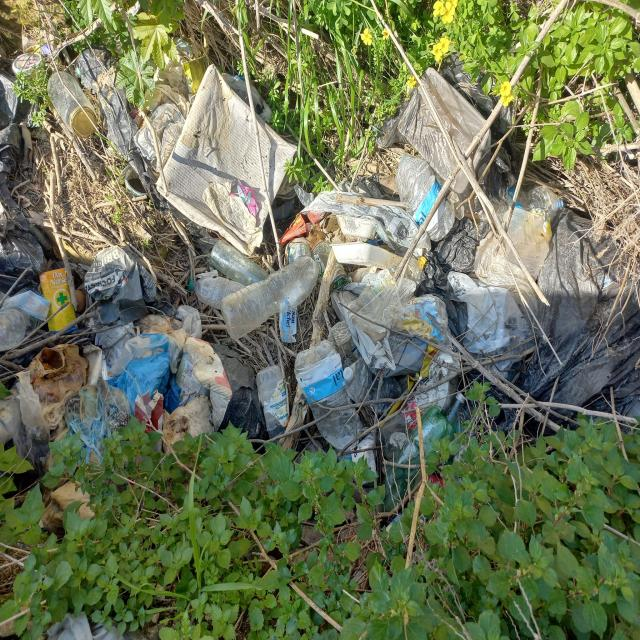Bottle: (220, 257, 325, 339), (382, 406, 454, 523), (294, 337, 361, 459), (394, 155, 456, 244), (344, 359, 407, 415), (46, 71, 98, 137), (358, 256, 427, 305), (0, 288, 51, 352), (478, 186, 564, 222), (210, 238, 270, 285), (256, 366, 290, 443), (312, 239, 348, 293), (189, 277, 246, 310), (443, 390, 466, 428)
Carton: (156, 62, 300, 260), (83, 244, 179, 325), (40, 266, 80, 334), (352, 433, 378, 487), (182, 55, 209, 93)
Other litter: (0, 306, 233, 479), (332, 276, 461, 462), (414, 218, 491, 346), (133, 34, 195, 175), (286, 211, 395, 263), (41, 477, 95, 534), (46, 612, 149, 640), (408, 474, 446, 547), (449, 404, 476, 486), (329, 320, 362, 369), (338, 174, 391, 199), (268, 181, 295, 221), (231, 180, 260, 216), (340, 268, 381, 293), (386, 513, 403, 539), (25, 43, 58, 54)
Other plastic: (447, 207, 553, 377), (221, 71, 274, 122), (279, 306, 297, 343)
Plastic bag - wrapper: (462, 207, 640, 450), (75, 49, 218, 258), (374, 67, 517, 215), (0, 70, 64, 296), (293, 183, 419, 256), (439, 54, 516, 140), (210, 342, 264, 451), (279, 212, 307, 245)
Plastic container: (11, 52, 46, 82)
Styrofoam piece: (329, 244, 404, 269), (337, 215, 378, 240)
